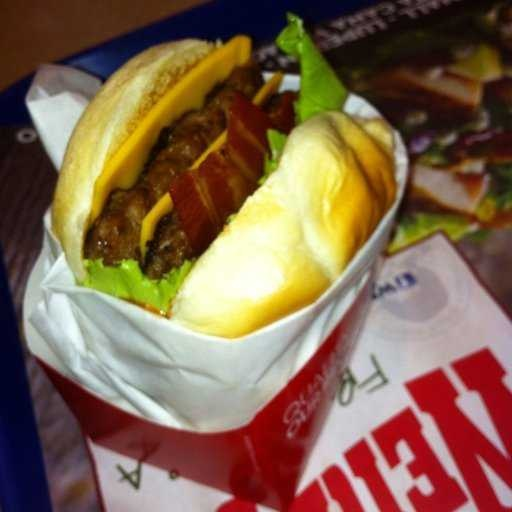hamburger: (42, 44, 402, 350)
